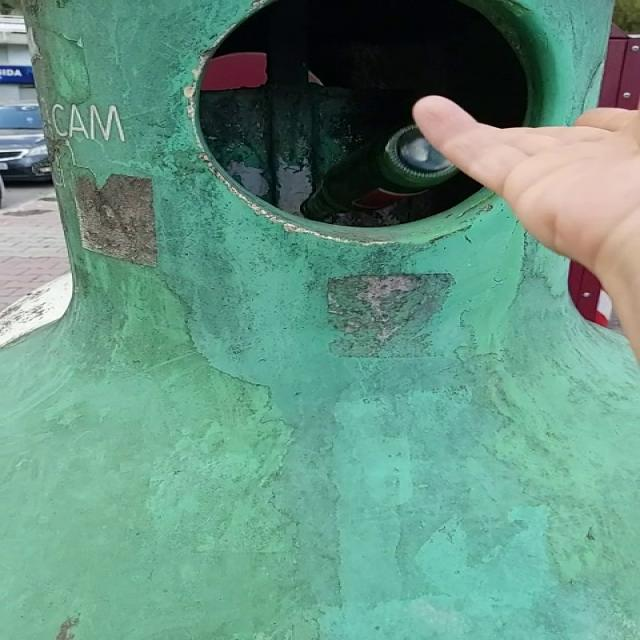glass: (301, 124, 459, 221)
